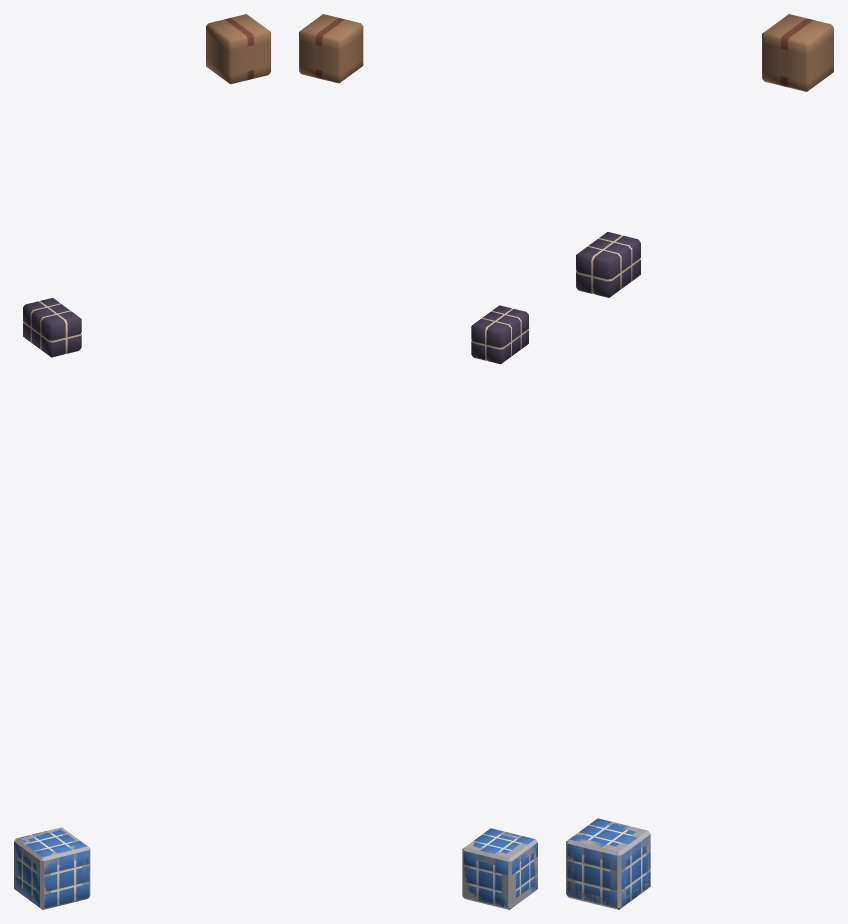
3 views of the same model, side by side, from view 1: azimuth 30°, elevation 25°; view 2: azimuth 150°, elevation 25°; view 3: azimuth 330°, elevation 25° (orthographic). The views are drawn at different scales.
Visible parts, largest first — view 1: Package1, Package3, Package2, LootBox; view 2: Package3, Package1, Package2, LootBox; view 3: Package1, Package3, Package2, LootBox.
Boxes of the visible parts, x1,y1,x2,y2 form: Package1: (14,829,89,908); Package3: (206,14,270,84); Package2: (23,298,81,357); LootBox: (14,827,90,909); Package3: (299,14,363,83); Package1: (463,828,537,907); Package2: (471,305,528,364); LootBox: (462,831,537,909); Package1: (567,818,650,907); Package3: (762,14,833,91); Package2: (576,232,640,297); LootBox: (566,822,650,909).
Bounding box in the file's own units: 8.96 × 31.56 × 2.38.
1 material, 1 textured.
